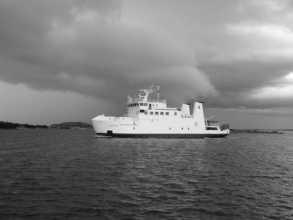otherboat: (89, 86, 230, 140)
